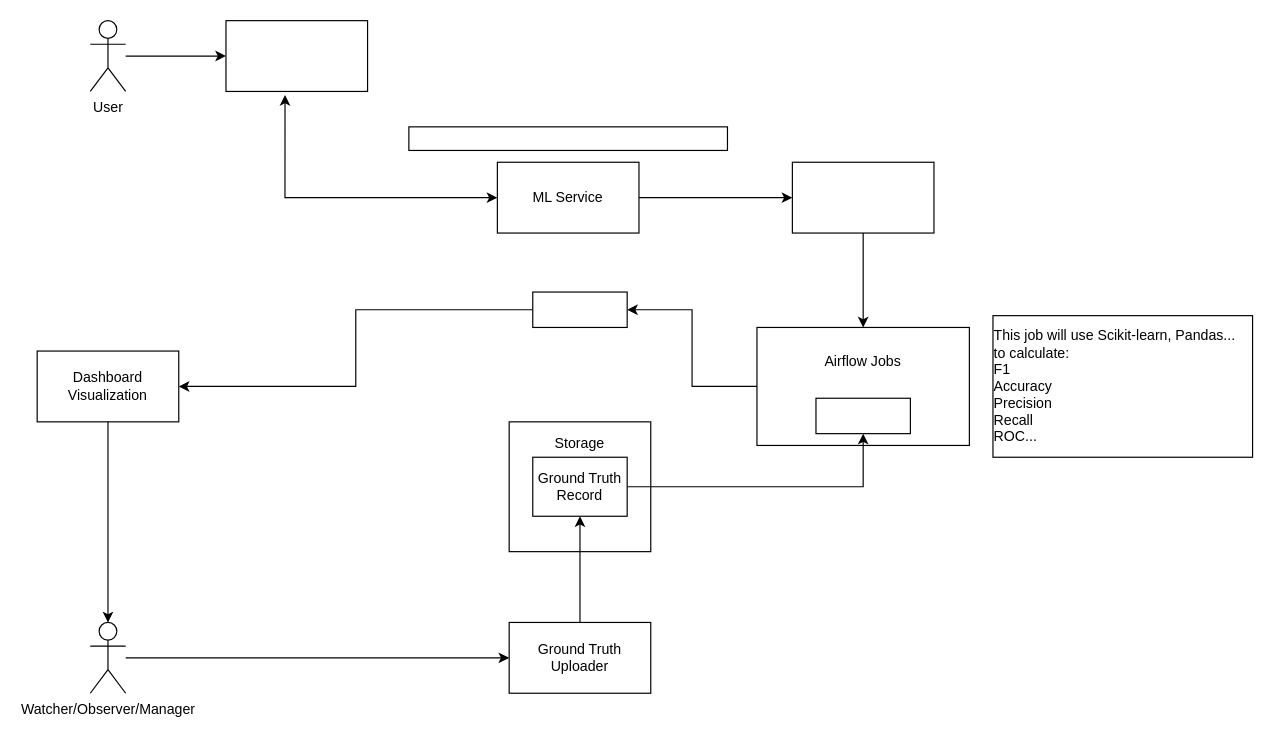
This 1273x739 diagram has some shape labels left out. The shapes that lost their labels are listed below. From the top down, each one's centre as x and y in pixels, then its label:
At pixel 296 55: "Frontend".
At pixel 567 138: "ML service has been deployed and run on cloud".
At pixel 862 197: "PostgreSQL".
At pixel 579 309: "Statistic DB".
At pixel 862 415: "Monitor model job".
